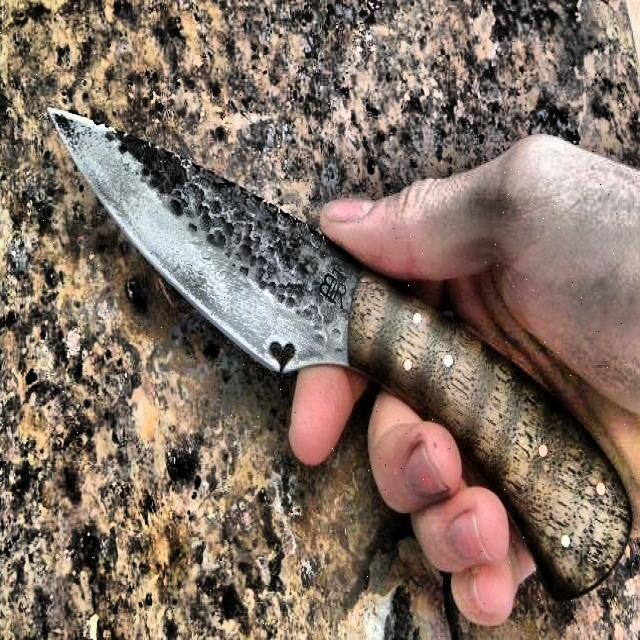knife: (54, 111, 630, 598)
